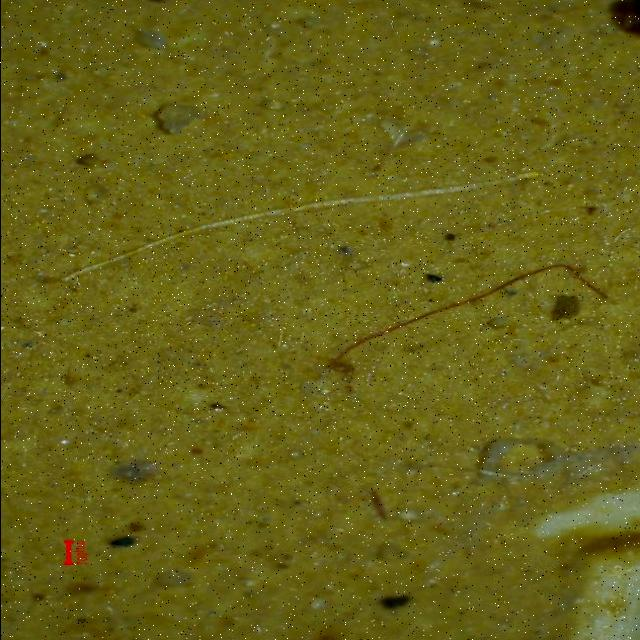Fibre: (322, 260, 616, 382)
